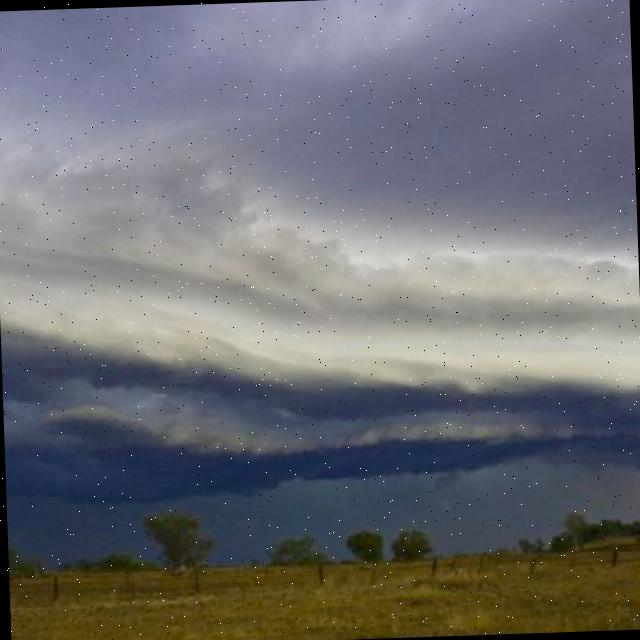Cb: (1, 101, 640, 483)
